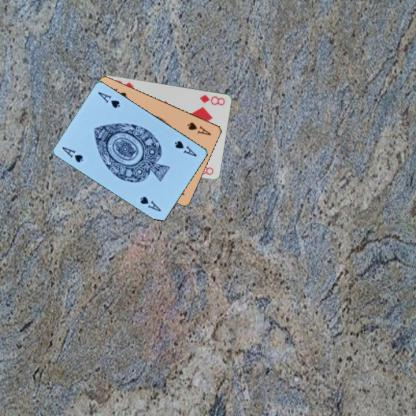8d: (198, 92, 226, 106)
As: (172, 138, 198, 158), (60, 144, 84, 163), (185, 120, 213, 136)
